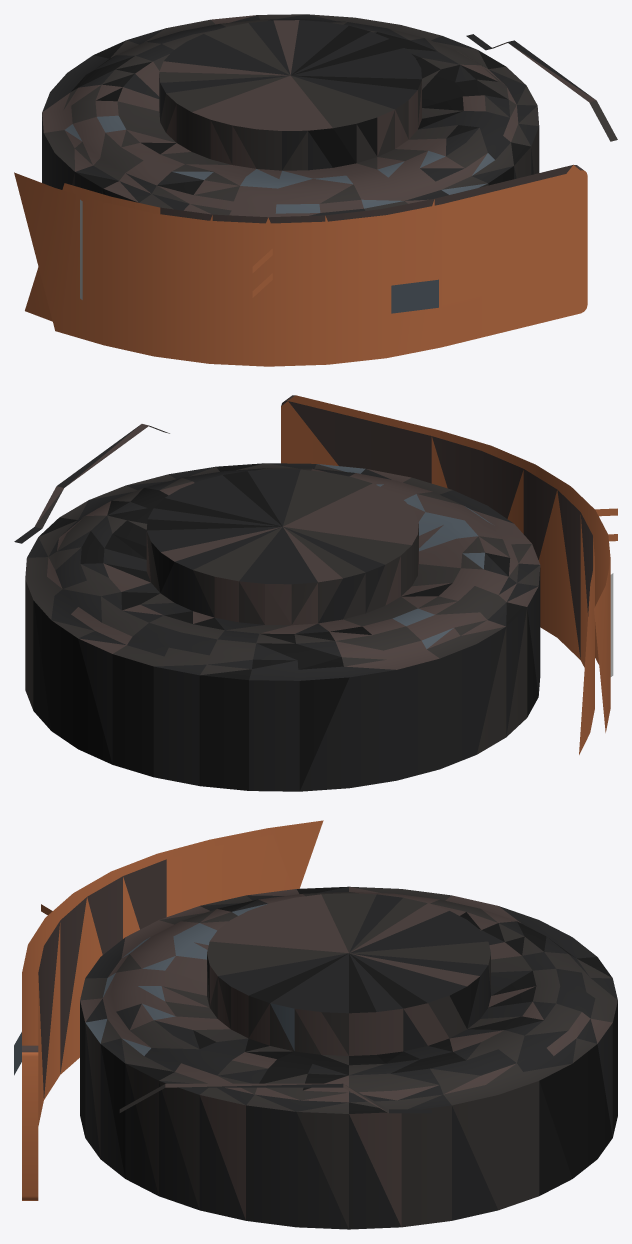
Rendered from front_right.obj.
3 renders of one model, top to bottom at view 1: azimuth 30°, elevation 25°; view 2: azimuth 150°, elevation 25°; view 3: azimuth 270°, elevation 25°, orthographic. The views are drawn at different scales.
Bounding box in the file's own units: 0.6725 × 0.2245 × 0.6394.
